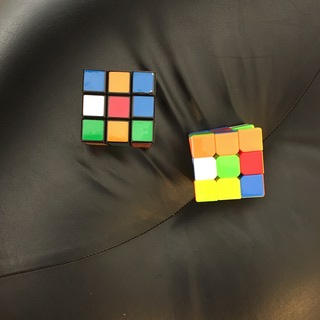face: (80, 69, 155, 143), (190, 128, 264, 202)
